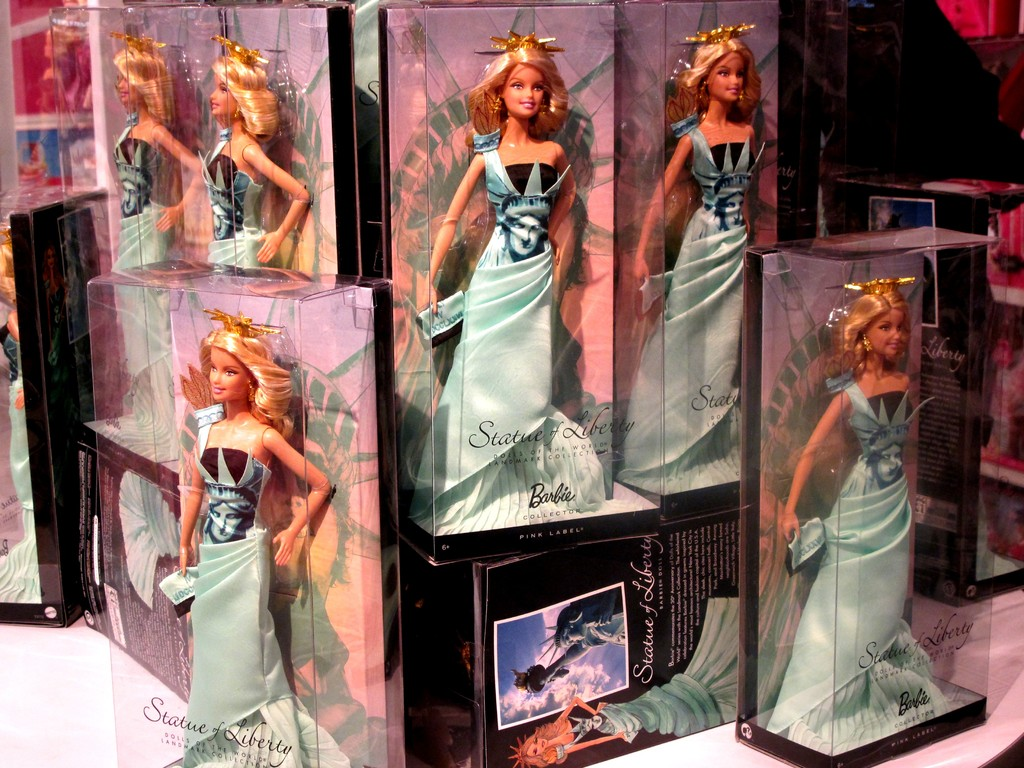Person: (0, 22, 951, 767)
